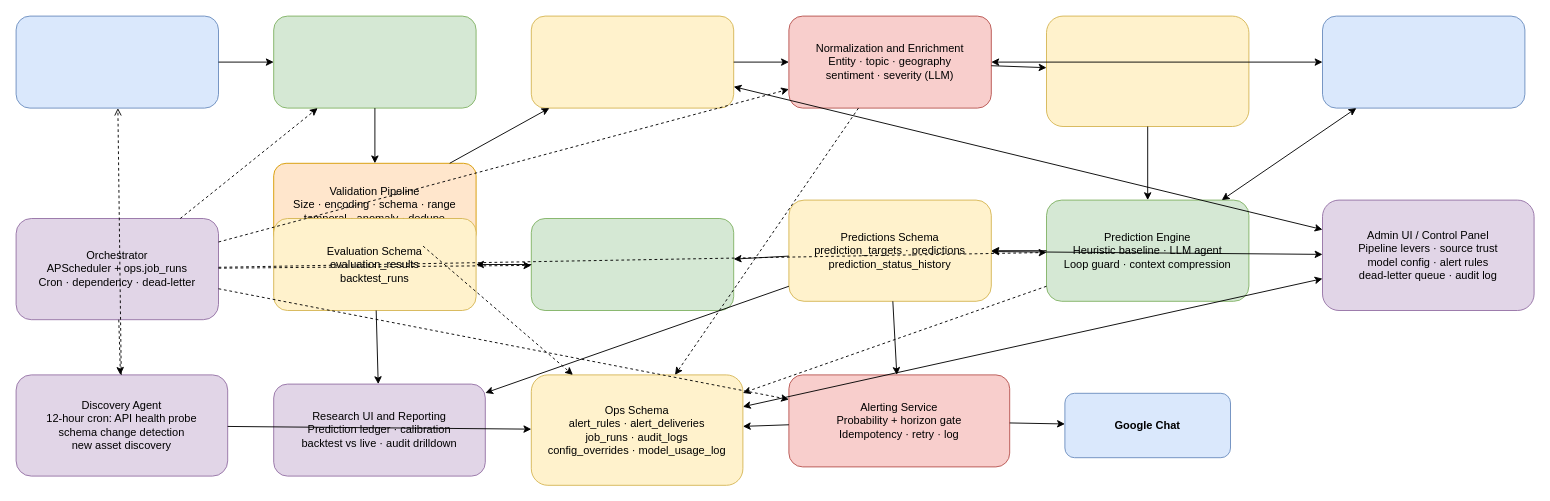
This 1550x501 diagram has some shape labels left out. The shapes that lost their labels are listed below. From the top down, each one's centre as x and y in pixels, then its label:
At [116,61]: "Public APIs GDELT, NewsAPI, FRED, EIA, SEC EDGAR, CoinGecko, Alpha Vantage".
At [374,61]: "Source Connectors Fetch, retry, dedupe, version source records".
At [632,61]: "Postgres Ingestion Schema raw_source_records normalized_events".
At [1147,70]: "Feature Store feature_sets feature_snapshots · feature_values feature_lineage".
At [1423,61]: "AI Model Provider Ollama (dev) · Groq (staging) Anthropic / OpenAI (prod)".
At [632,264]: "Evaluation Engine Settlement · Brier score calibration · paper return".
